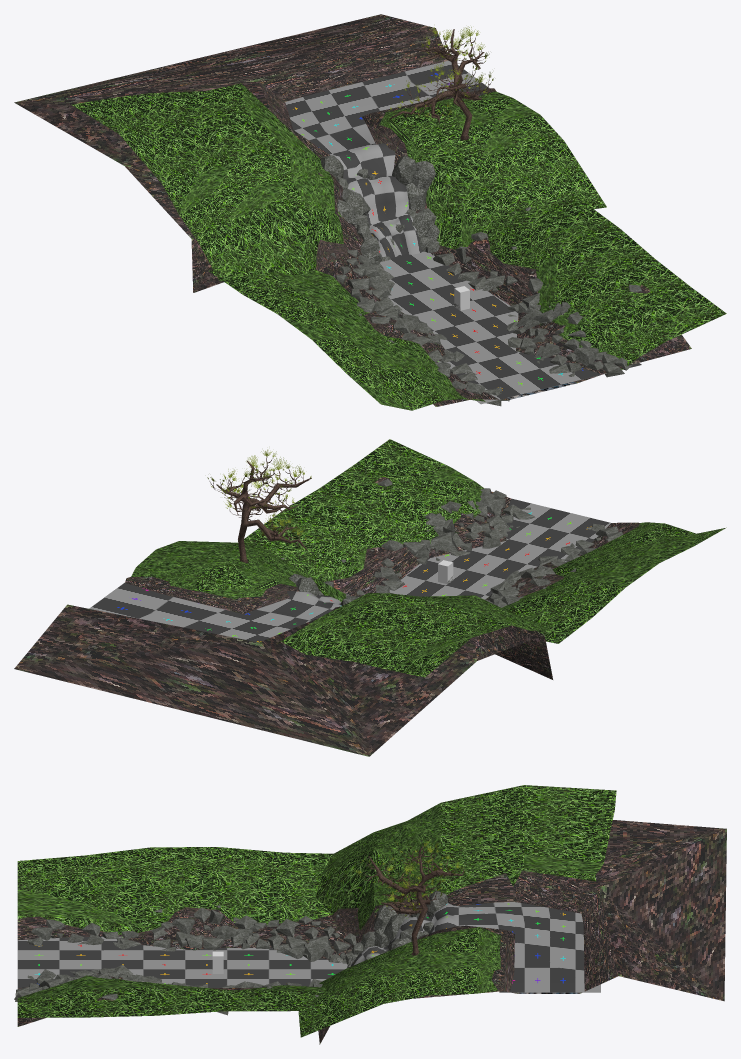
File: river_bed_3.glb
3 views of the same model, one above another, from view 1: azimuth 30°, elevation 25°; view 2: azimuth 150°, elevation 25°; view 3: azimuth 270°, elevation 25° (orthographic). The views are drawn at different scales.
Parts seen in each view (by area): view 1: Plane.001, plane.004, water, Plane, Plane.002, plane.003, plane.002, plane.001, tree; view 2: plane.004, Plane, water, Plane.001, plane.003, Plane.002, plane.002, tree, plane.001; view 3: plane.004, Plane.001, plane.003, water, Plane.002, Plane, plane.001, tree.
Part boxes in pixels (left/top/right/bottom): Plane.001: left=71, top=83, right=343, bottom=281; plane.004: left=14, top=14, right=496, bottom=292; water: left=285, top=60, right=641, bottom=404; Plane: left=487, top=191, right=726, bottom=369; Plane.002: left=379, top=91, right=606, bottom=249; plane.003: left=209, top=269, right=485, bottom=410; plane.002: left=431, top=233, right=691, bottom=383; plane.001: left=315, top=251, right=508, bottom=406; tree: left=389, top=29, right=483, bottom=140; plane.004: left=14, top=576, right=552, bottom=756; Plane: left=244, top=439, right=483, bottom=581; water: left=89, top=498, right=610, bottom=642; Plane.001: left=277, top=593, right=565, bottom=677; plane.003: left=502, top=522, right=726, bottom=643; Plane.002: left=131, top=541, right=346, bottom=601; plane.002: left=325, top=477, right=511, bottom=597; tree: left=216, top=460, right=311, bottom=562; plane.001: left=485, top=522, right=639, bottom=599; plane.004: left=318, top=820, right=726, bottom=1044; Plane.001: left=315, top=785, right=616, bottom=930; plane.003: left=17, top=847, right=333, bottom=934; water: left=17, top=902, right=600, bottom=992; Plane.002: left=298, top=927, right=500, bottom=1037; Plane: left=17, top=975, right=326, bottom=1017; plane.001: left=17, top=907, right=351, bottom=960; tree: left=368, top=846, right=464, bottom=955.
Bounding box in the file's own units: 75.65 × 39.62 × 128.
Materials: 7 (7 with a texture image).
